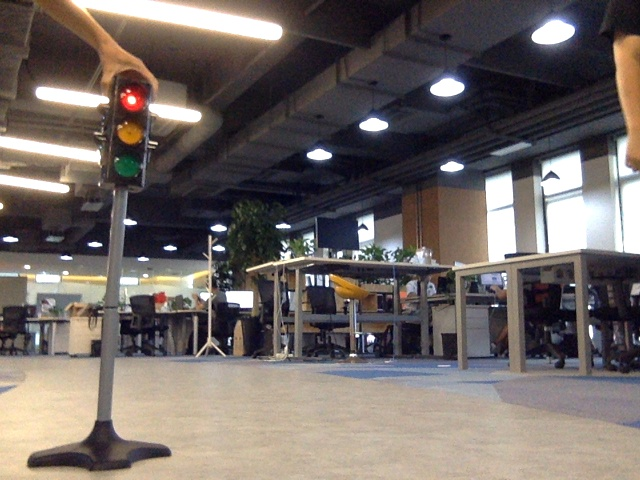red: (114, 86, 143, 180)
